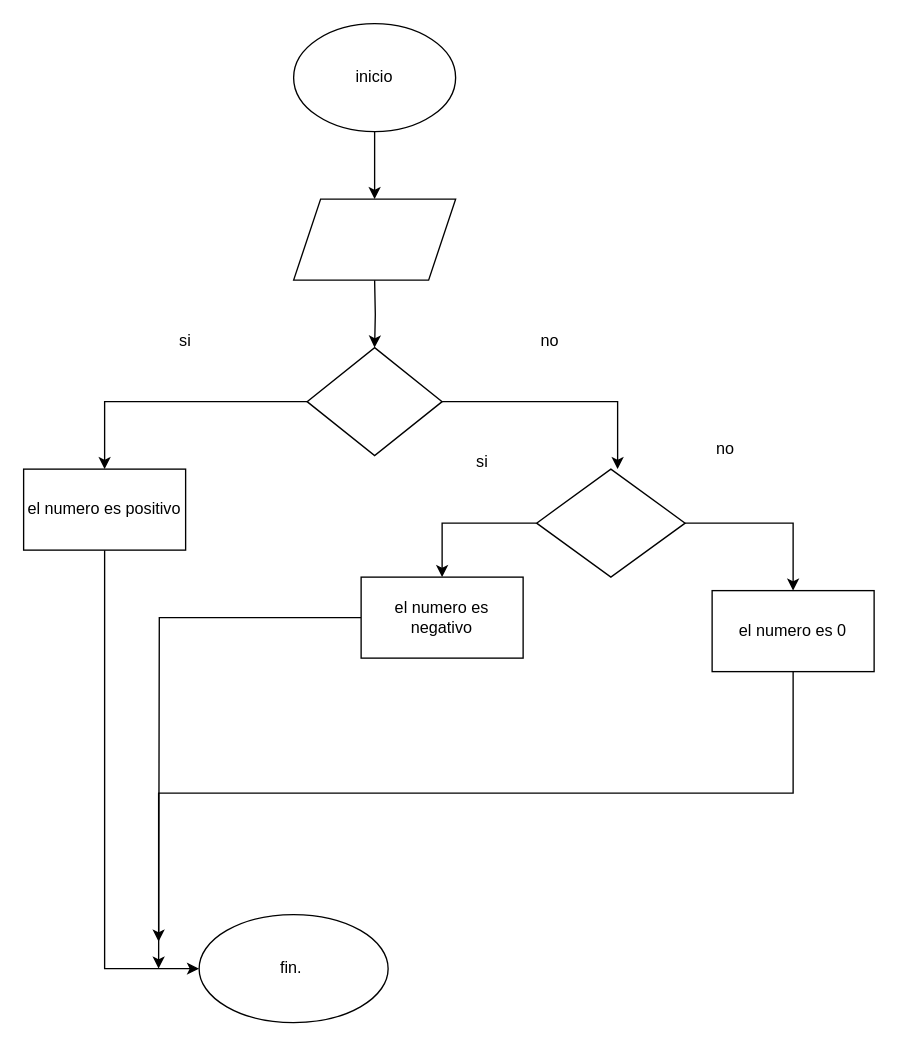
The diagram is 898 pixels wide and 1046 high, and some of its shapes have lost their labels. Here are the shapes that lost their labels. From the top down, the centre of each, then its label:
(x=374, y=239): numero
(x=374, y=401): numero mayor que 0
(x=610, y=522): numero menor que 0
